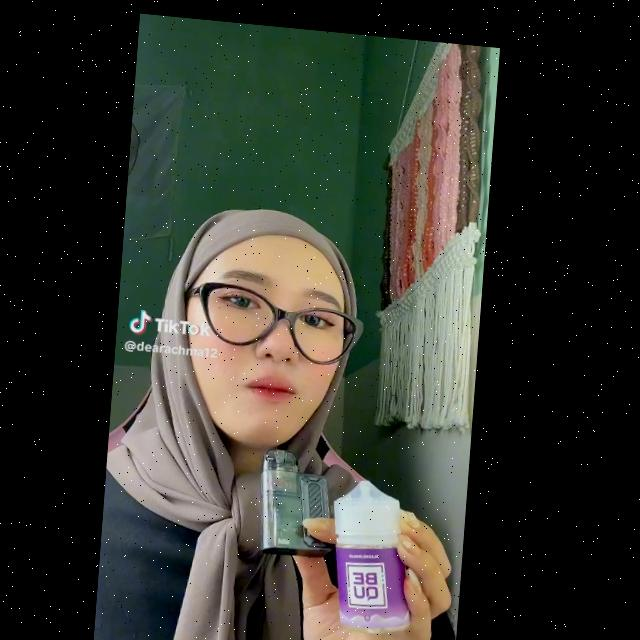vape: (263, 439, 344, 555)
